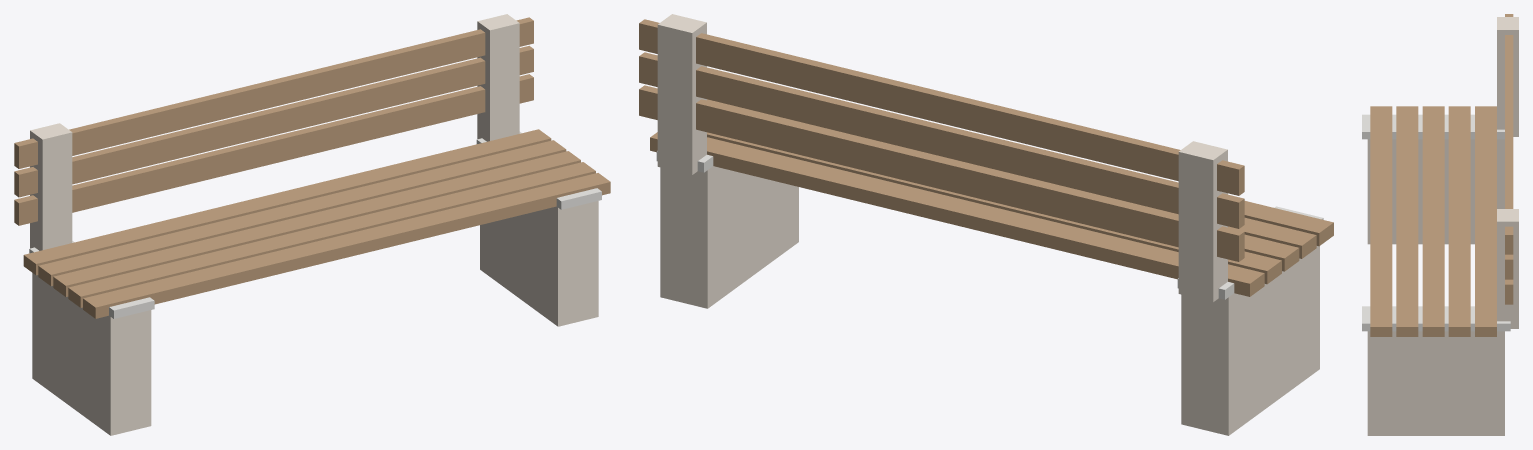
Rendered from Park_Bench.fbx.
The picture shows the model from 3 angles, left to right: view 1: azimuth 30°, elevation 25°; view 2: azimuth 150°, elevation 25°; view 3: azimuth 270°, elevation 25°; orthographic projection. The views are drawn at different scales.
Parts seen in each view (by area): view 1: Park_Bench; view 2: Park_Bench; view 3: Park_Bench.
Boxes of the visible parts, bbox=[...] form: Park_Bench: bbox=[14, 14, 610, 435]; Park_Bench: bbox=[639, 14, 1333, 435]; Park_Bench: bbox=[1362, 14, 1518, 435].
Size of the model in its own units: 1.9 by 0.85 by 0.57.
